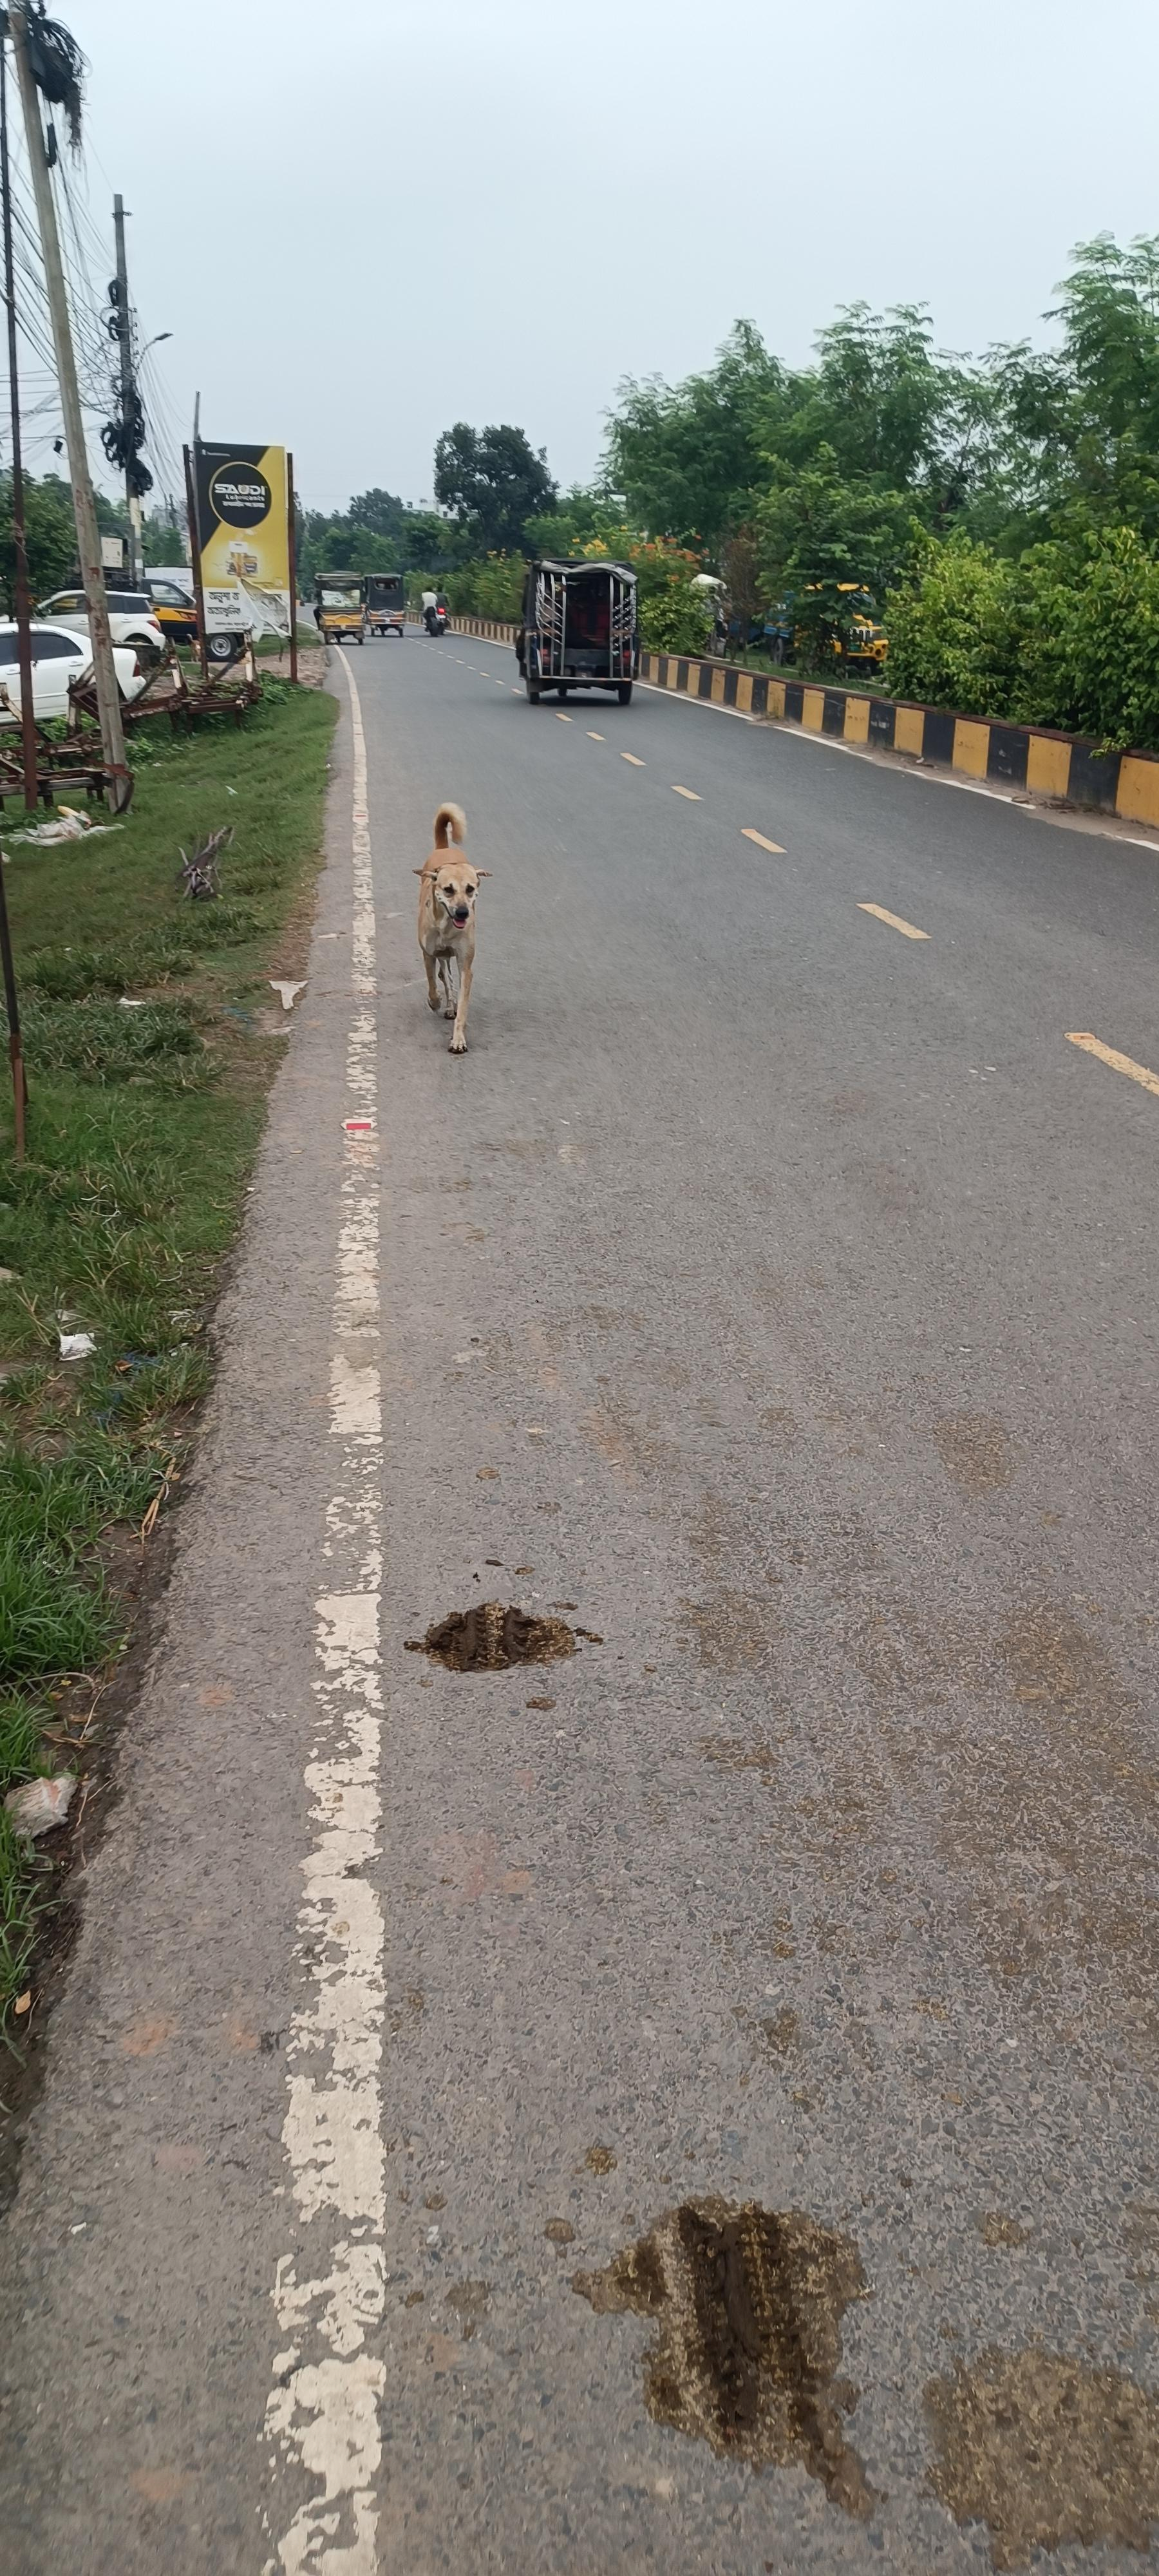Construction-barrier: (741, 658, 1159, 824)
Crosswalk: (413, 800, 493, 1054)
Dog: (402, 1595, 594, 1676)
Garbage: (187, 419, 321, 708)
Light-pole: (14, 77, 160, 811)
Traffic-cone: (484, 560, 664, 721)
